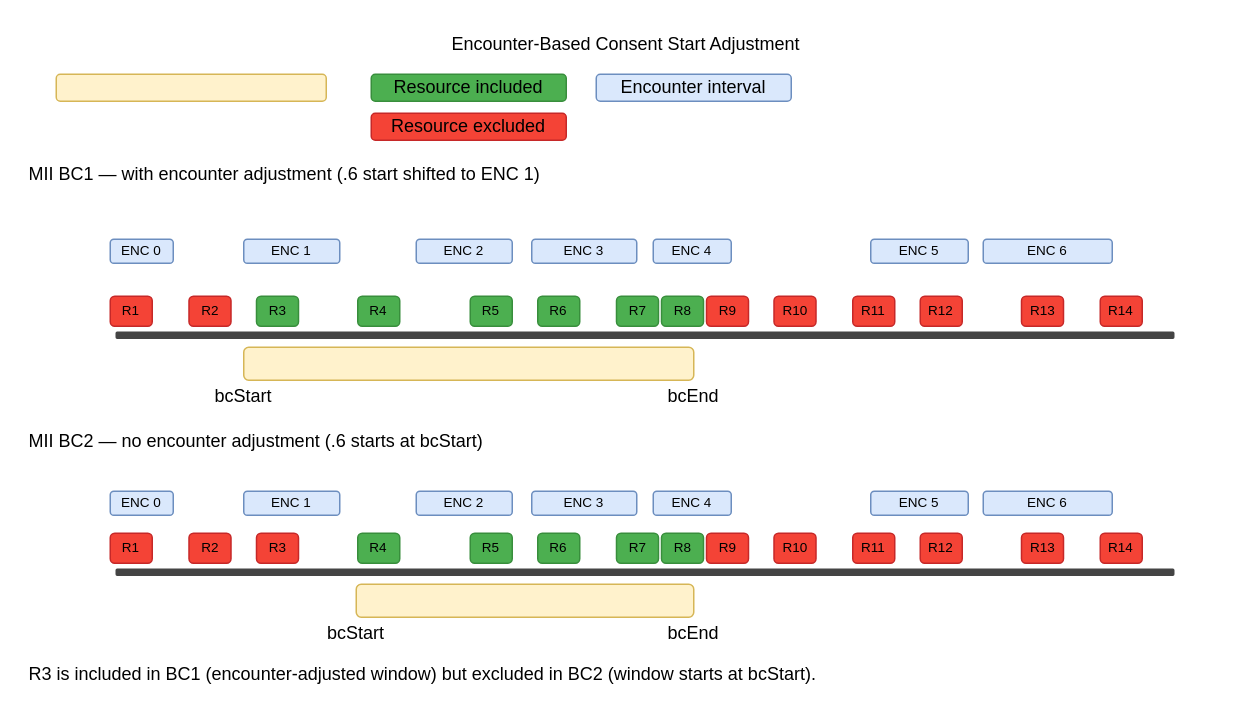
The diagram is 1251 pixels wide and 711 high, and some of its shapes have lost their labels. The shapes that lost their labels are listed below. From the top down, each one's box as (x1, y1, x2, y2) in pixels, then its label:
(55, 73, 326, 101): Prospective .6 window
(242, 346, 694, 380): BC (.6) — 5 Years (encounter-adjusted)
(355, 583, 694, 617): BC (.6) — 5 Years
